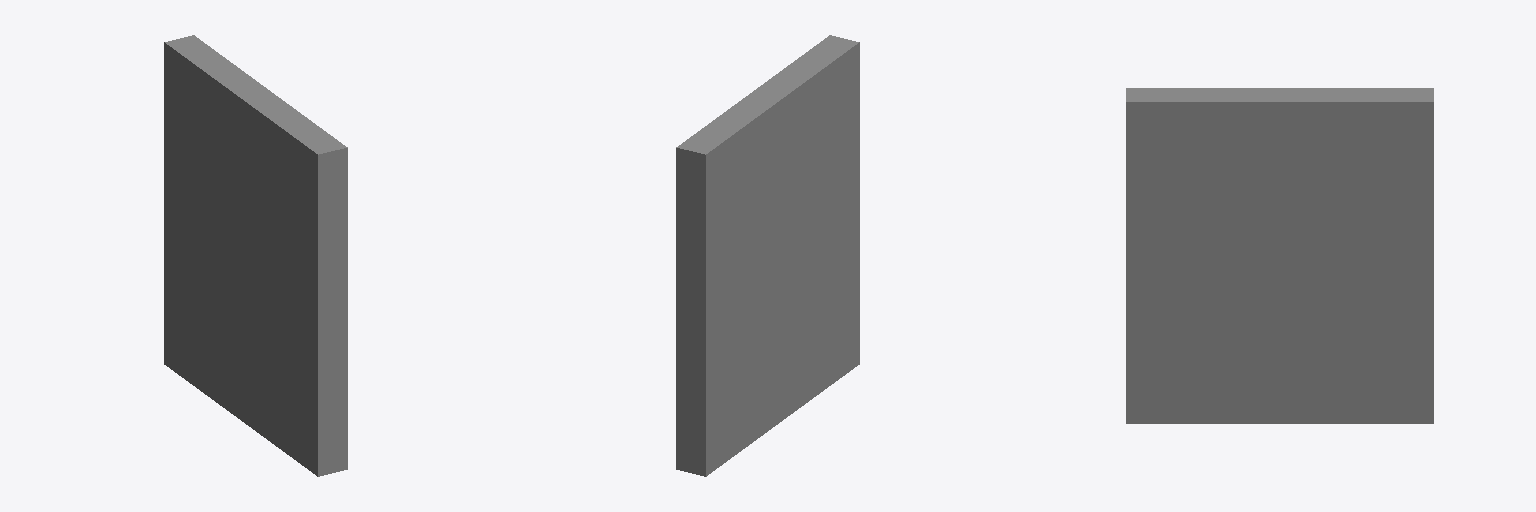
The model's file is Optical_pad.obj.
3 renders of one model, left to right at view 1: azimuth 30°, elevation 25°; view 2: azimuth 150°, elevation 25°; view 3: azimuth 270°, elevation 25°, orthographic.
Parts seen in each view (by area): view 1: pad; view 2: pad; view 3: pad.
Part boxes in pixels (bbox=[...]): pad: bbox=[164, 35, 347, 476]; pad: bbox=[676, 35, 859, 476]; pad: bbox=[1126, 88, 1433, 423].
Bounding box in the file's own units: 0.0042 × 0.0437 × 0.0378.